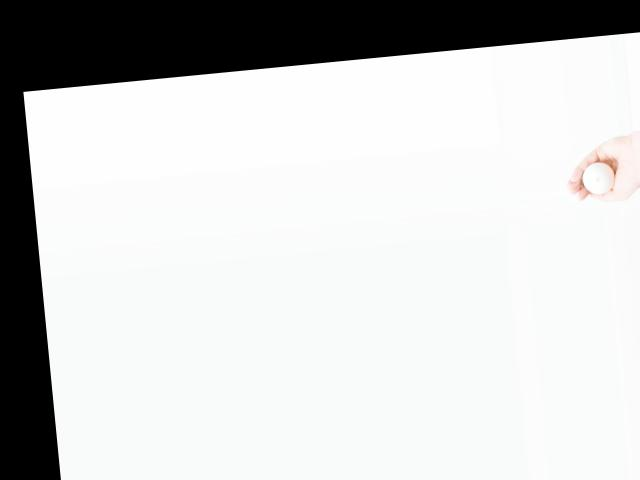egg: (580, 161, 615, 194)
